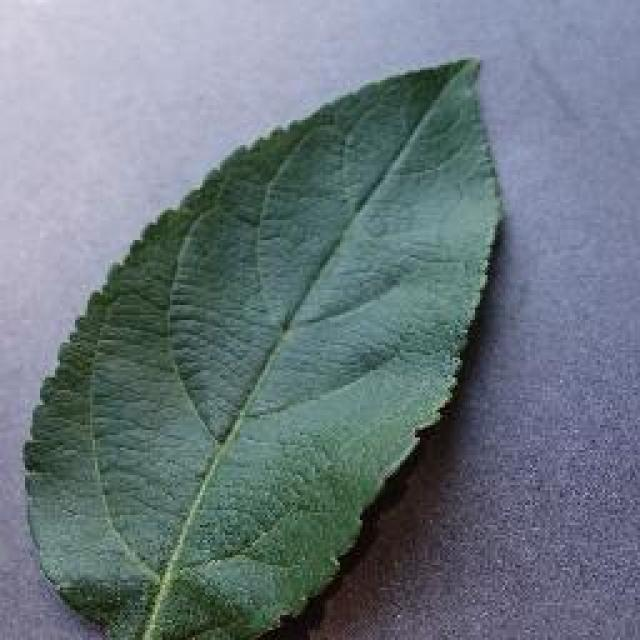Apple___healthy: (19, 53, 507, 638)
